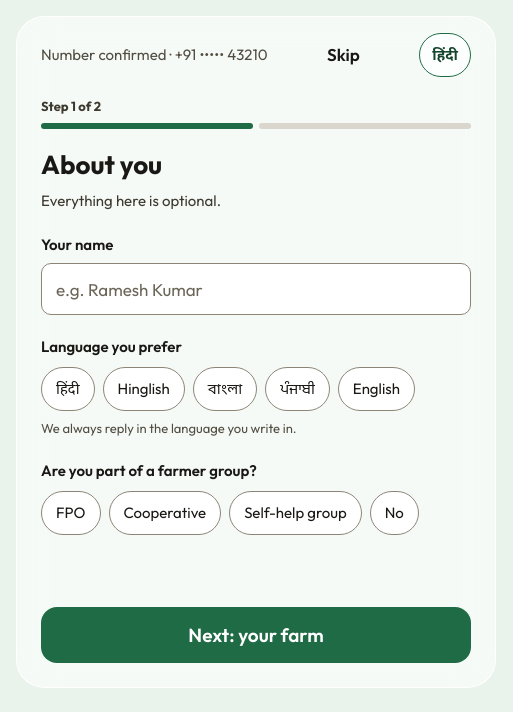
Test case: About you, then Your farm, with the crop they asked about already picked
Later steps or results of the test are not shown.
Expected: the text "Number confirmed · +91 ••••• 43210" is shown, [41,43,268,67]
Type "Ramesh" into the field labelled "Your name".
click(256, 289); type("Ramesh")  # box [41,263,471,315]
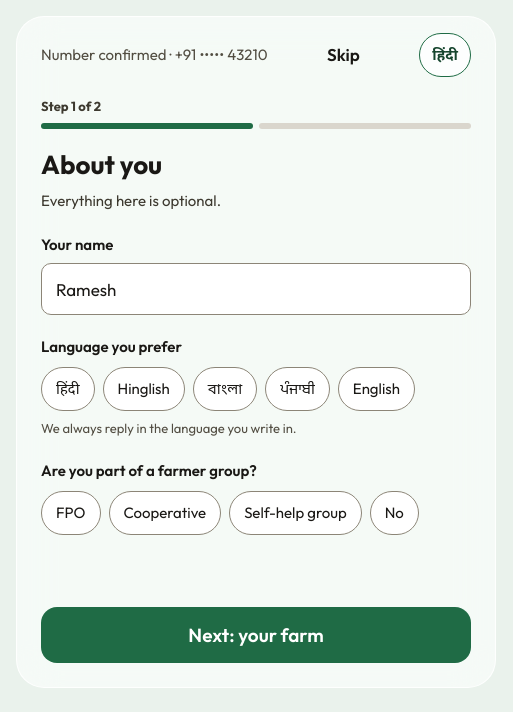
Click the button "FPO".
click(71, 512)  # box [41,490,100,534]
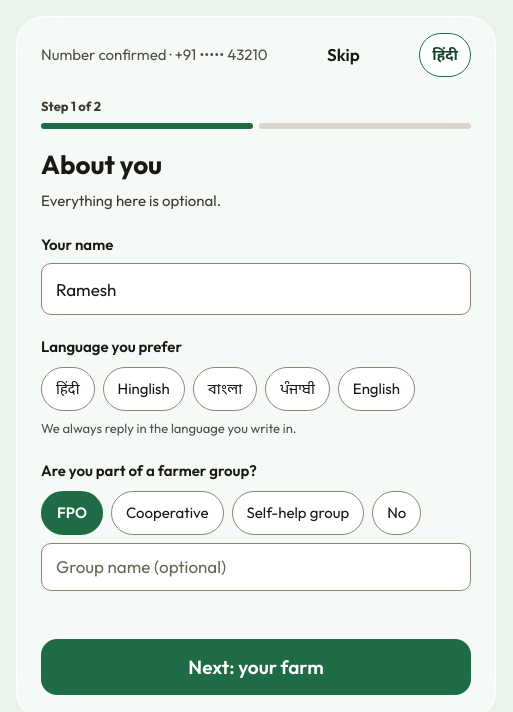
Type "Kisan Sangh" into the field with placeholder "Group name (optional)".
click(256, 566); type("Kisan Sangh")  # box [41,542,471,590]
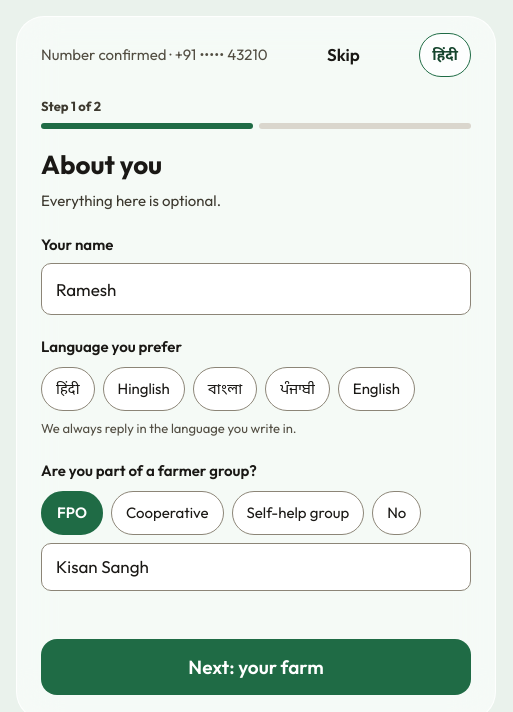
Click the button "Next: your farm".
click(256, 666)  # box [41,638,471,694]
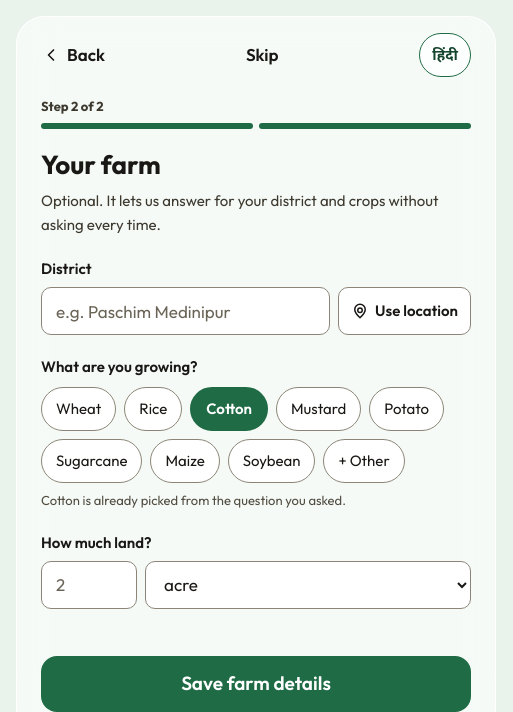
Expected: the heading "Your farm" is shown, [41,148,161,180]
Expected: the text "Cotton is already picked from the question you asked." is shown, [41,492,346,508]
